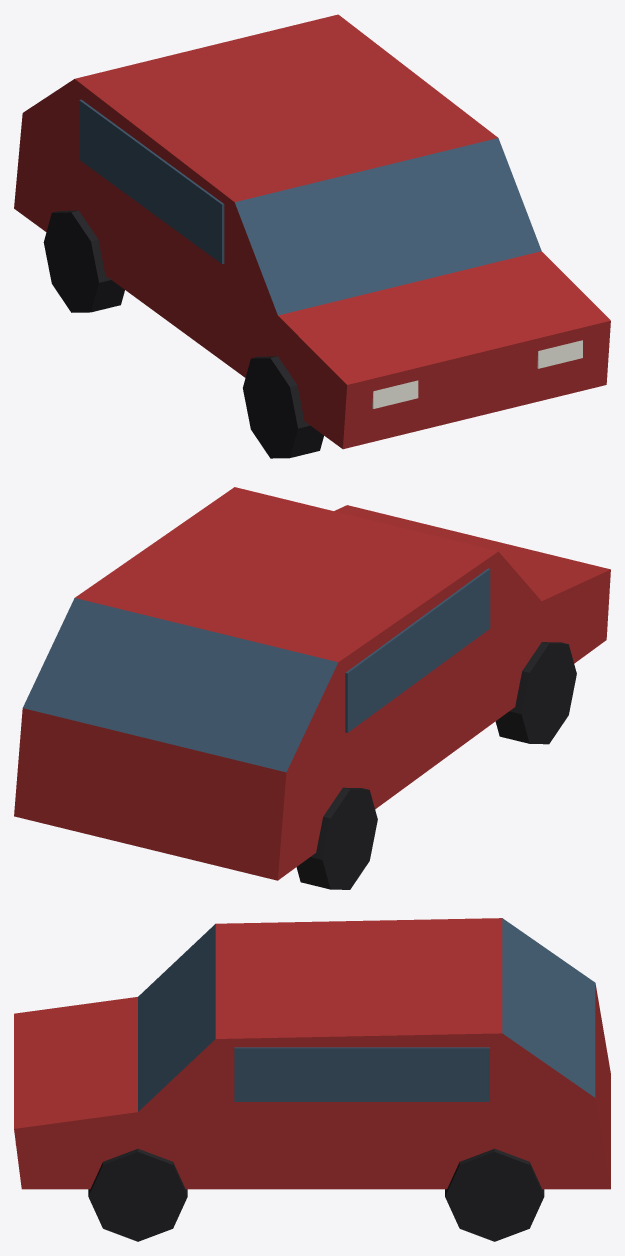
Rendered from carro_rua_2.glb.
The picture shows the model from 3 angles, top to bottom: view 1: azimuth 30°, elevation 25°; view 2: azimuth 150°, elevation 25°; view 3: azimuth 270°, elevation 25°; orthographic projection. The views are drawn at different scales.
Parts seen in each view (by area): view 1: cor, vi, pre, far; view 2: cor, vi, pre; view 3: cor, vi, pre.
Part boxes in pixels (x1=…): cor: x1=14, y1=14, x2=610, y2=449; vi: x1=79, y1=99, x2=541, y2=315; pre: x1=43, y1=210, x2=323, y2=458; far: x1=372, y1=340, x2=582, y2=408; cor: x1=14, y1=487, x2=610, y2=880; vi: x1=23, y1=568, x2=490, y2=772; pre: x1=296, y1=642, x2=576, y2=889; cor: x1=14, y1=918, x2=610, y2=1189; vi: x1=138, y1=918, x2=595, y2=1111; pre: x1=88, y1=1148, x2=544, y2=1241.
Size of the model in its own units: 1.86 by 1.46 by 3.85.
